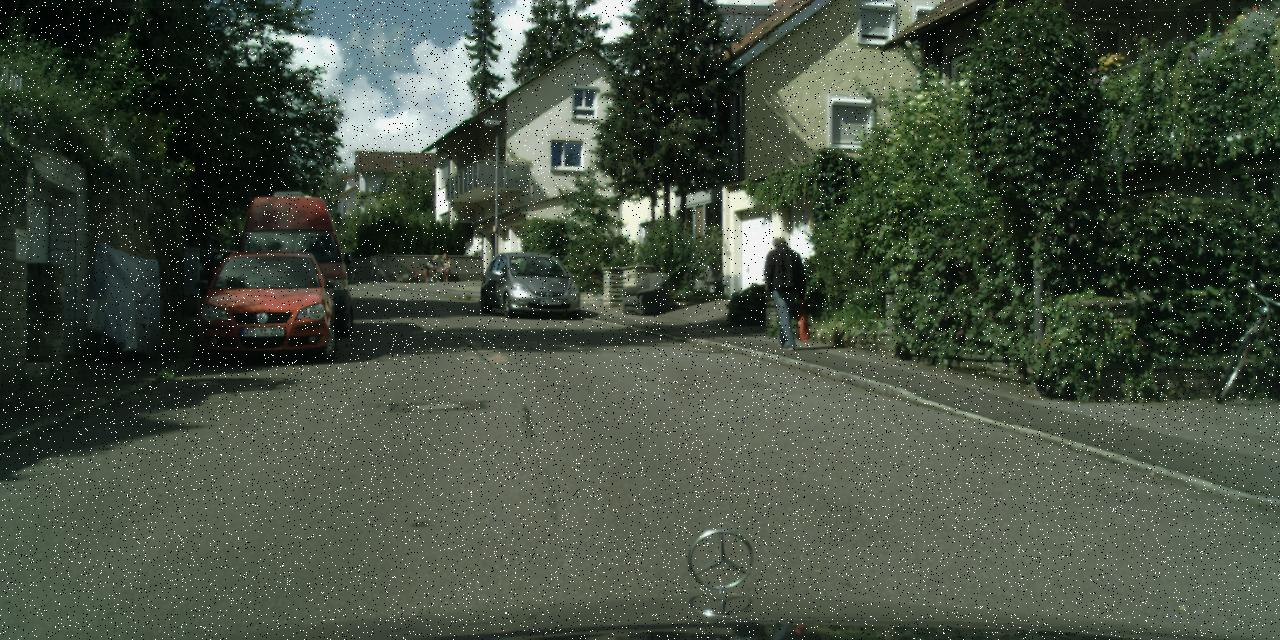ped: (758, 236, 804, 348), (439, 252, 452, 282), (429, 254, 439, 282)
